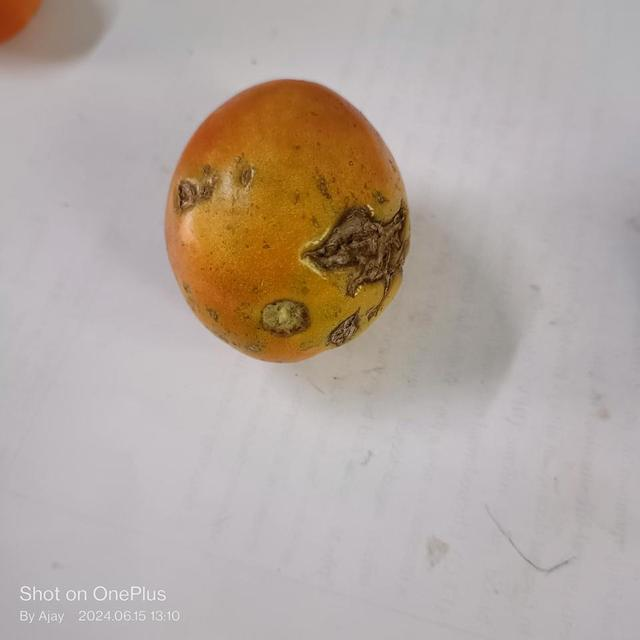Bacterial Spot Fruit: (17, 24, 237, 217)
